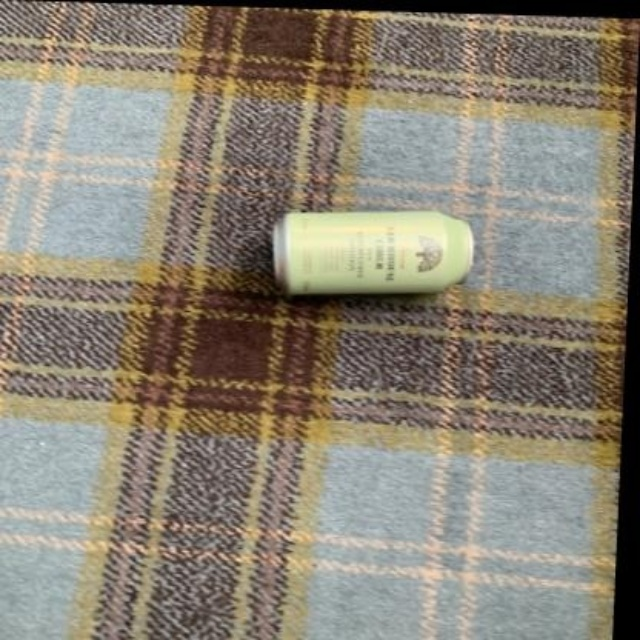trash: (272, 211, 472, 294)
